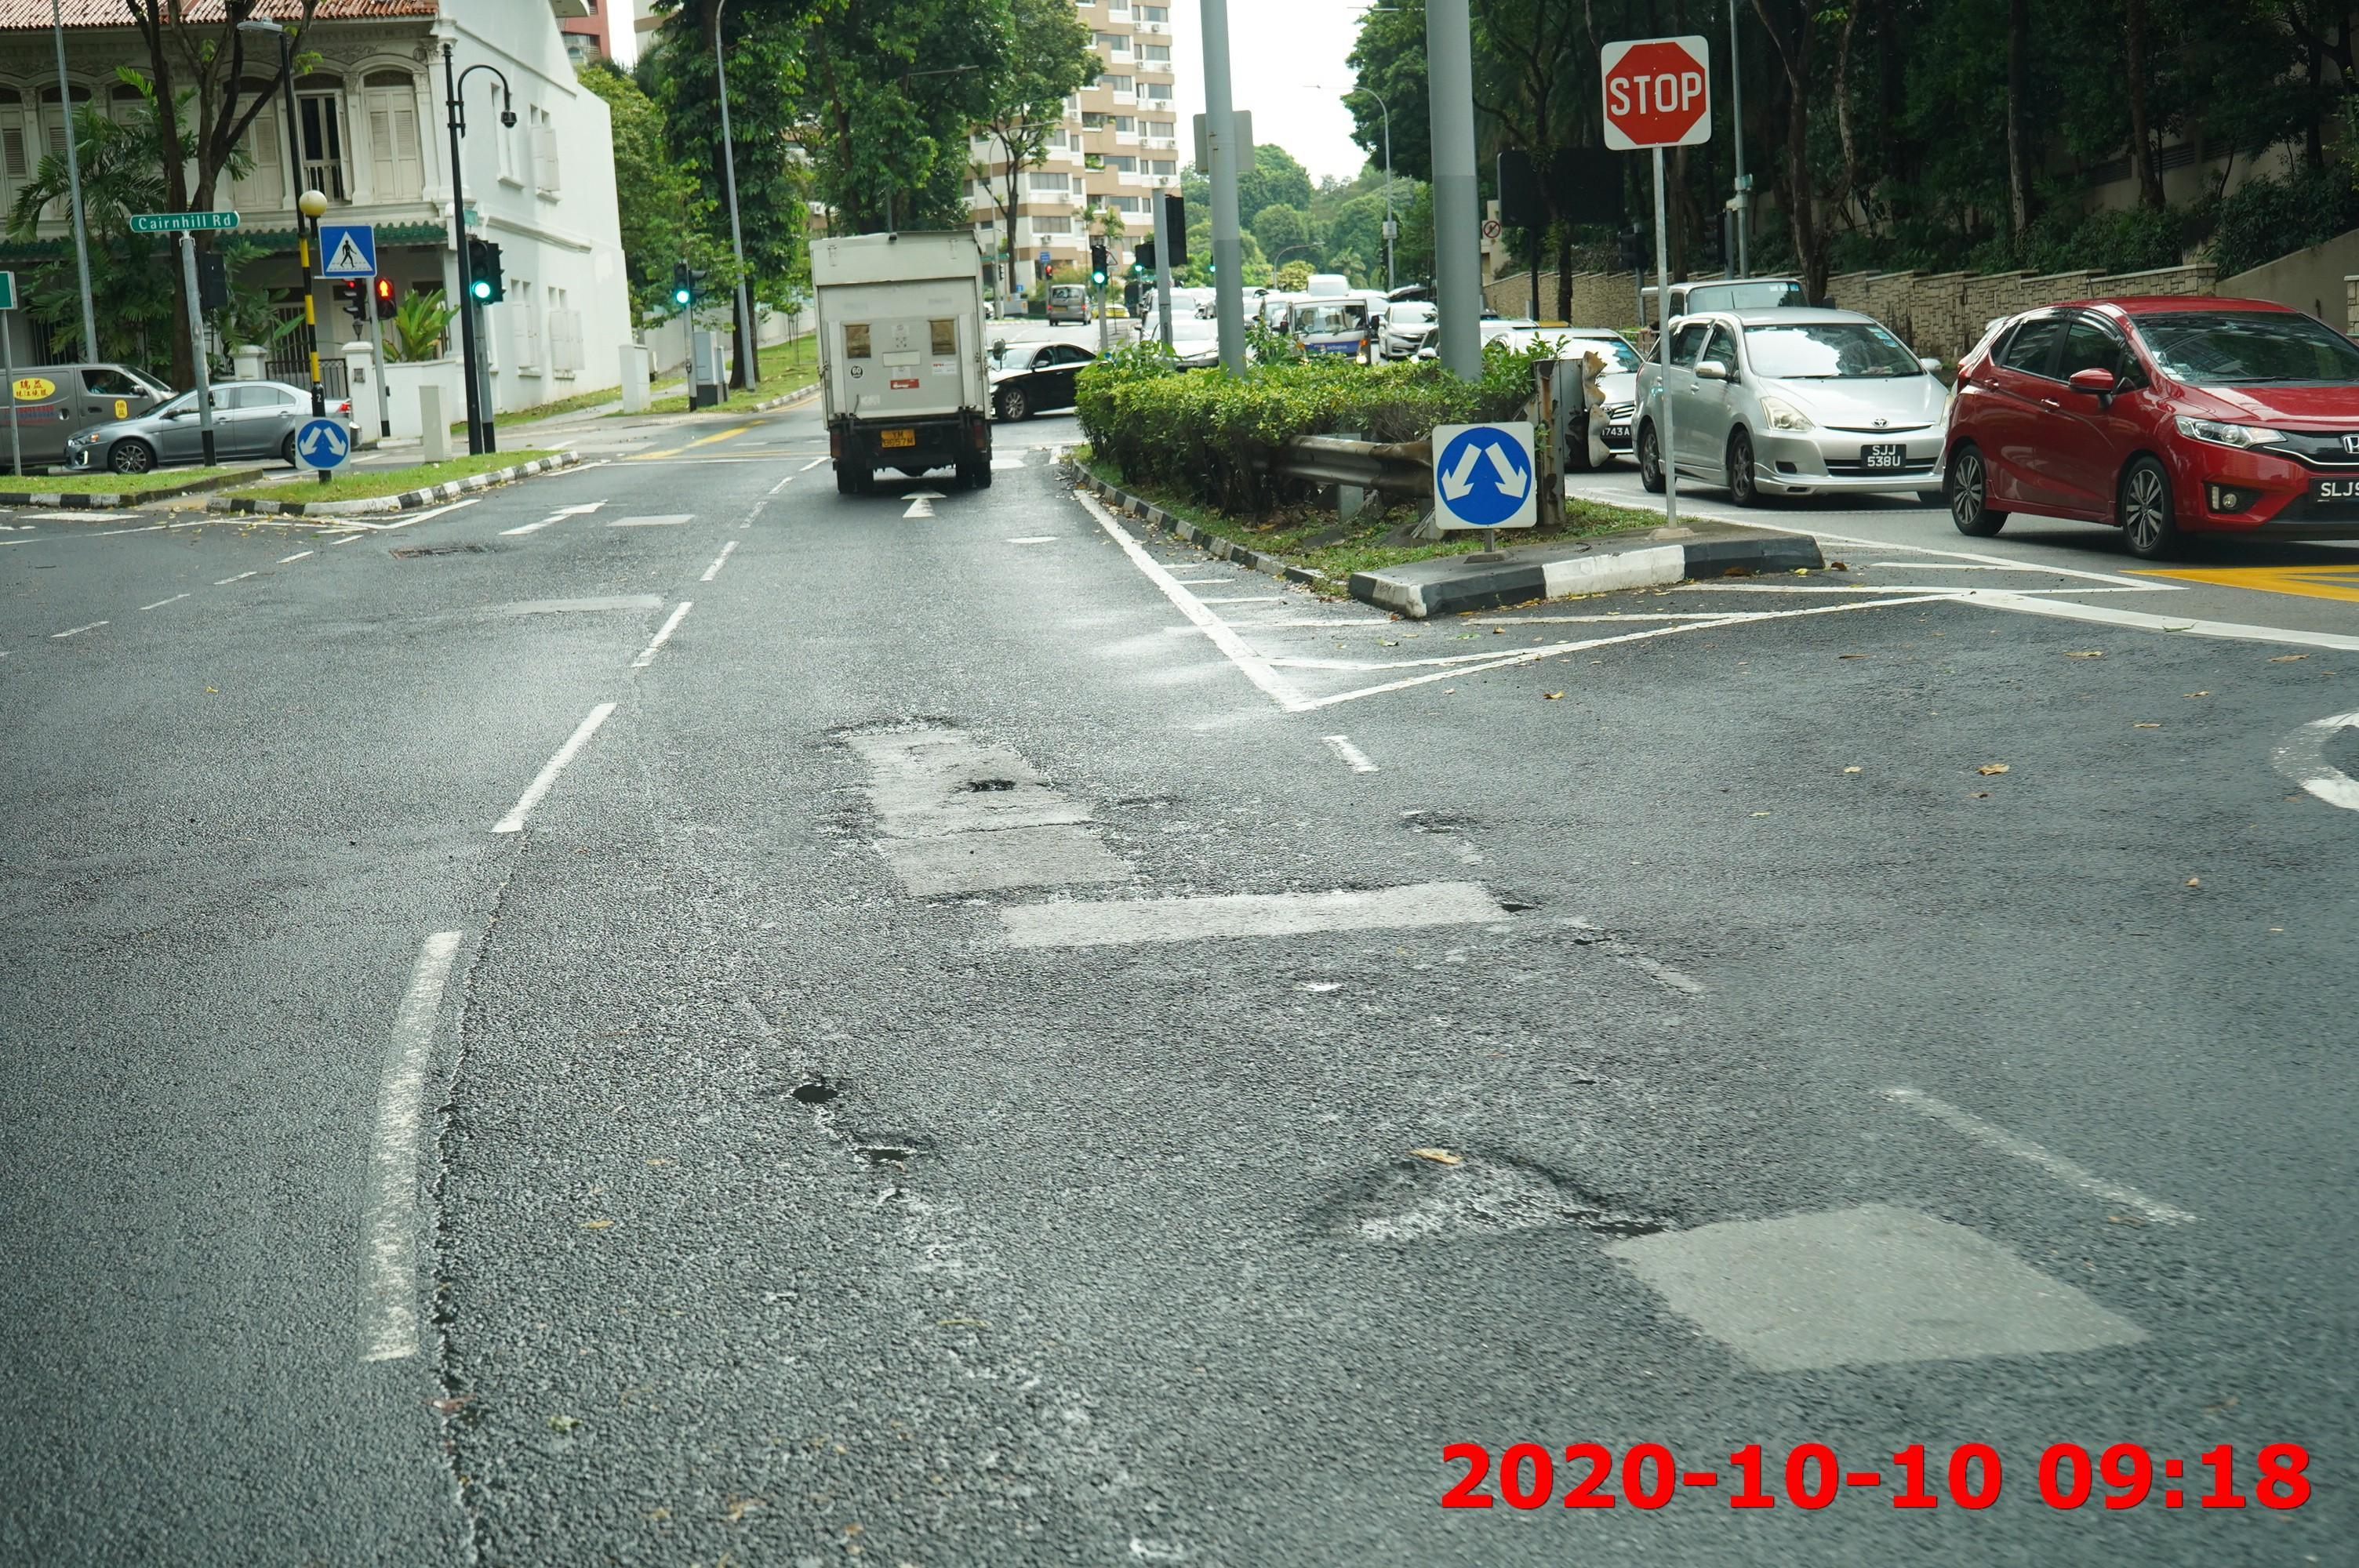peel off with cracks: (1274, 1132, 1706, 1260)
